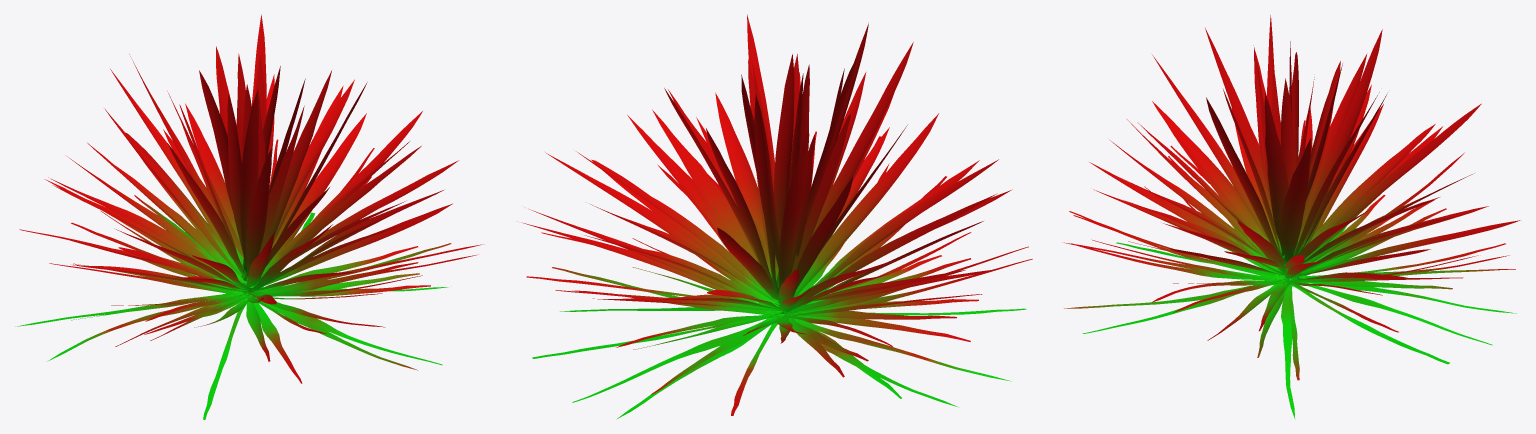
The model's file is Var9_LOD2.fbx.
The picture shows the model from 3 angles, left to right: view 1: azimuth 30°, elevation 25°; view 2: azimuth 150°, elevation 25°; view 3: azimuth 270°, elevation 25°; orthographic projection. The views are drawn at different scales.
Visible parts, largest first — view 1: _qu4f_Var9_LOD2; view 2: _qu4f_Var9_LOD2; view 3: _qu4f_Var9_LOD2.
Part boxes in pixels (x1,y1,x2,y2): _qu4f_Var9_LOD2: (15, 14, 484, 419); _qu4f_Var9_LOD2: (522, 14, 1032, 419); _qu4f_Var9_LOD2: (1062, 15, 1520, 419).
Bounding box in the file's own units: 99.58 × 66.8 × 99.24.
